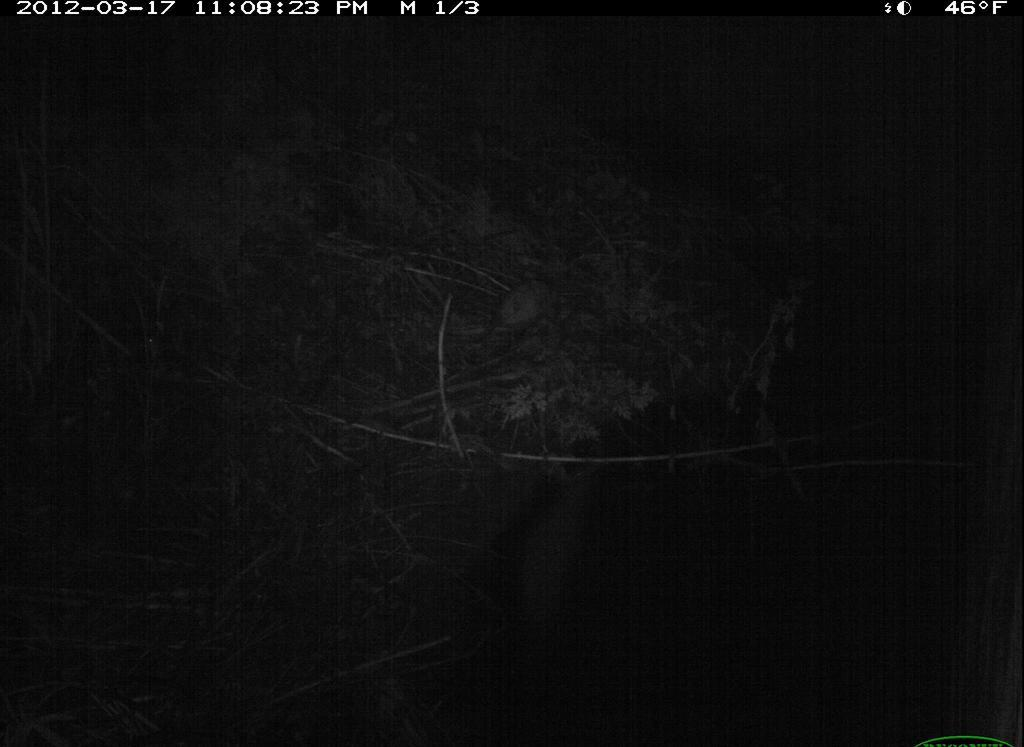opossum: (482, 269, 574, 365)
